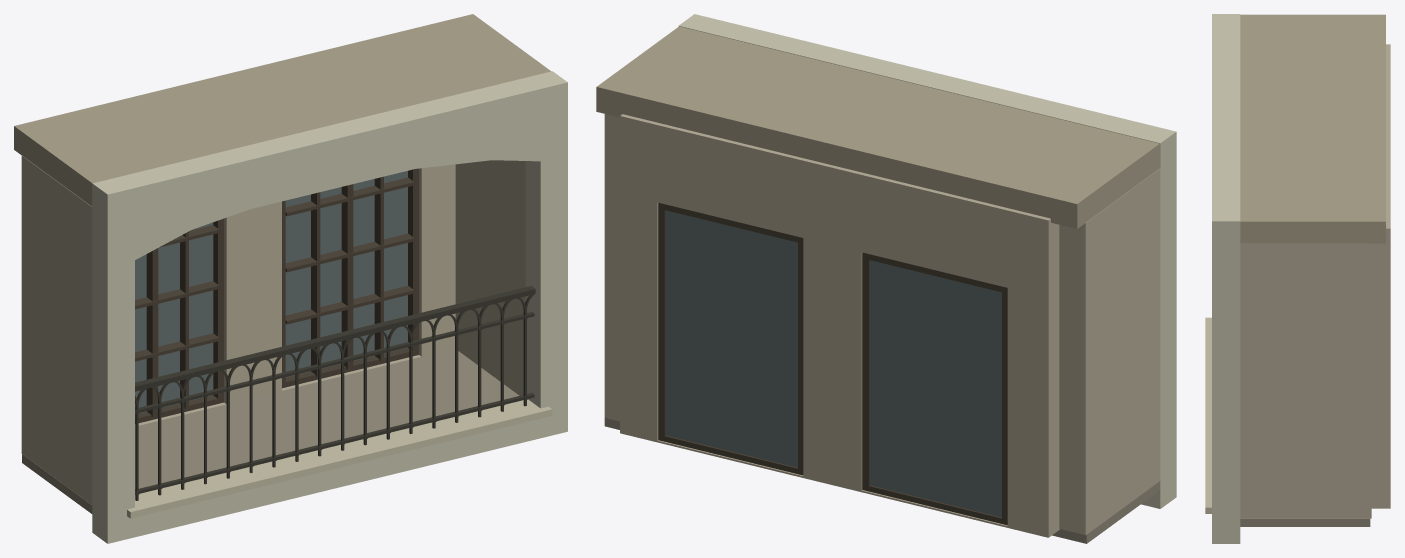
The model's file is changning-fushi-garden-faceted-loggia-web.glb.
The picture shows the model from 3 angles, left to right: view 1: azimuth 30°, elevation 25°; view 2: azimuth 150°, elevation 25°; view 3: azimuth 270°, elevation 25°; orthographic projection. The views are drawn at different scales.
Parts seen in each view (by area): view 1: 福世花园园侧折线浅拱敞廊与铁栏; view 2: 福世花园园侧折线浅拱敞廊与铁栏; view 3: 福世花园园侧折线浅拱敞廊与铁栏.
Part boxes in pixels (x1,y1,x2,y2): 福世花园园侧折线浅拱敞廊与铁栏: (14, 14, 567, 543); 福世花园园侧折线浅拱敞廊与铁栏: (596, 14, 1176, 543); 福世花园园侧折线浅拱敞廊与铁栏: (1205, 14, 1390, 543).
Size of the model in its own units: 4.06 by 2.94 by 1.53.
